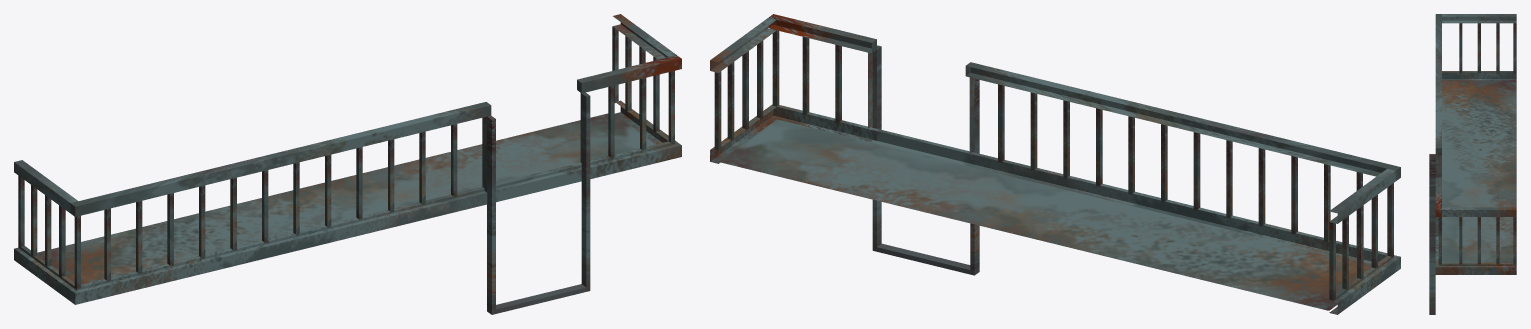
File: VarandaGradeGrandeComEscada 1.fbx
The picture shows the model from 3 angles, left to right: view 1: azimuth 30°, elevation 25°; view 2: azimuth 150°, elevation 25°; view 3: azimuth 270°, elevation 25°; orthographic projection. The views are drawn at different scales.
Visible parts, largest first — view 1: VarandaGradeGrandeComEscada; view 2: VarandaGradeGrandeComEscada; view 3: VarandaGradeGrandeComEscada.
Part boxes in pixels (x1,y1,x2,y2): VarandaGradeGrandeComEscada: (14, 14, 681, 314); VarandaGradeGrandeComEscada: (710, 14, 1400, 314); VarandaGradeGrandeComEscada: (1429, 14, 1516, 314).
Bounding box in the file's own units: 1371 × 444 × 258.
